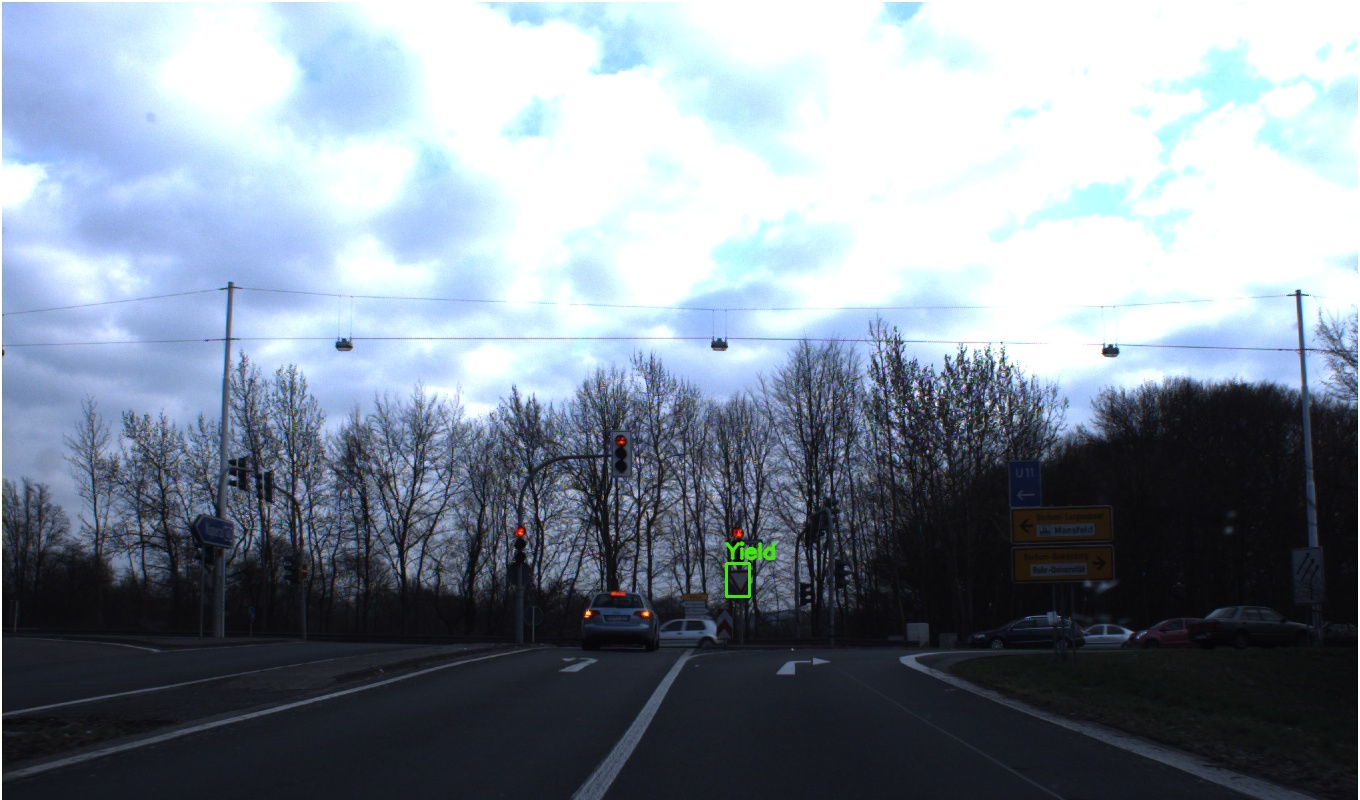Speed limit (30km/h): (794, 372, 824, 401)
